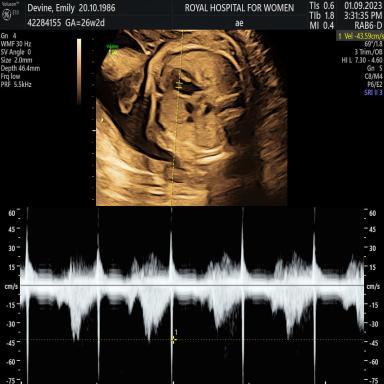Ultrasound-Waves: (22, 209, 362, 379)
